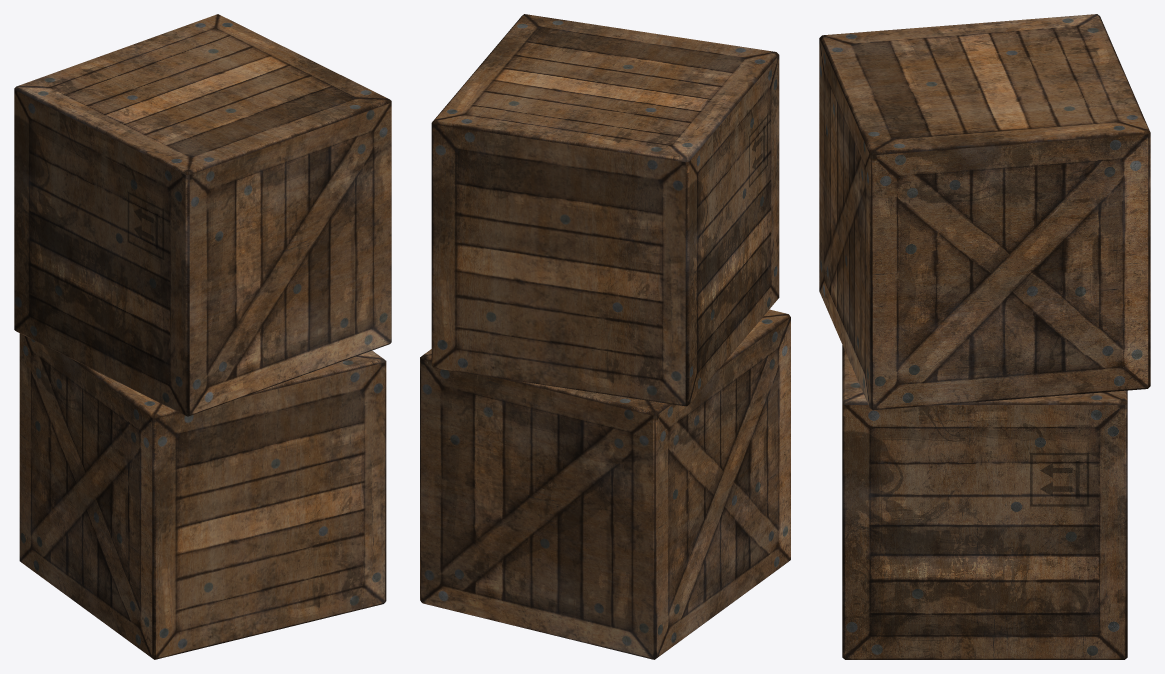
File: crates.fbx
3 renders of one model, left to right at view 1: azimuth 30°, elevation 25°; view 2: azimuth 150°, elevation 25°; view 3: azimuth 270°, elevation 25°, orthographic. The views are drawn at different scales.
Parts seen in each view (by area): view 1: Cube.001, Cube; view 2: Cube.001, Cube; view 3: Cube.001, Cube.
Boxes of the visible parts, x1,y1,x2,y2 form: Cube.001: (14,14,391,416); Cube: (19,333,386,659); Cube.001: (431,14,779,406); Cube: (420,309,790,659); Cube.001: (819,14,1150,410); Cube: (842,345,1127,659).
Bounding box in the file's own units: 232 × 401 × 232.
